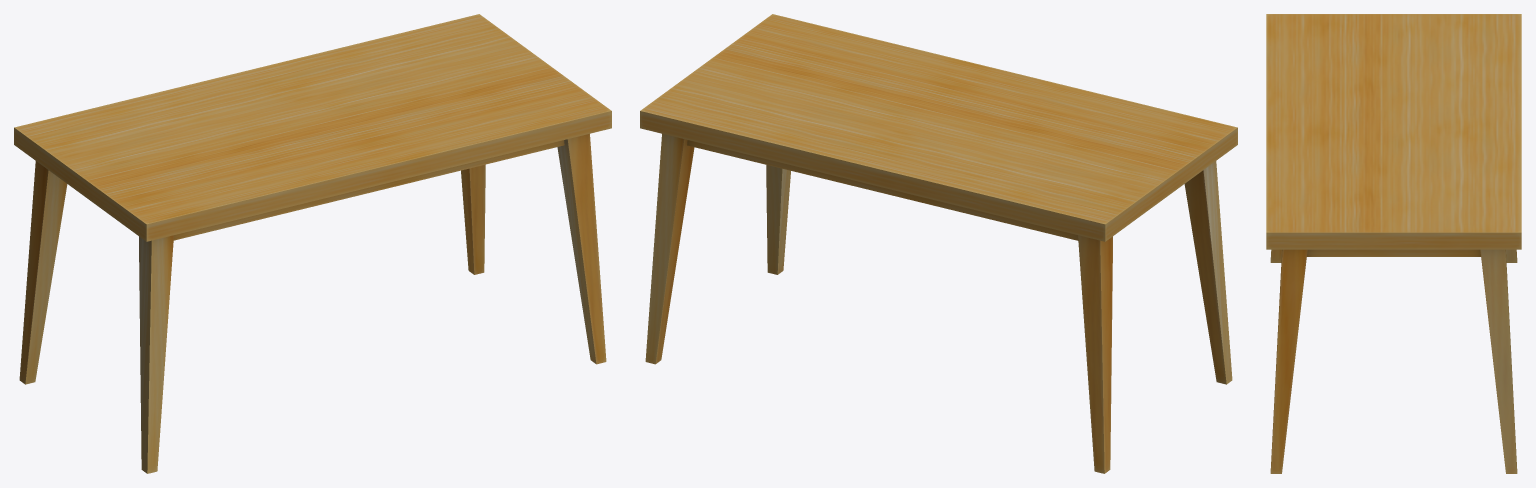
File: sb_obj_ModernCity069_diningtable.fbx
3 views of the same model, side by side, from view 1: azimuth 30°, elevation 25°; view 2: azimuth 150°, elevation 25°; view 3: azimuth 270°, elevation 25° (orthographic). The views are drawn at different scales.
Parts seen in each view (by area): view 1: sb_obj_ModernCity069_diningtable; view 2: sb_obj_ModernCity069_diningtable; view 3: sb_obj_ModernCity069_diningtable.
Boxes of the visible parts, x1=… form: sb_obj_ModernCity069_diningtable: x1=14, y1=14, x2=611, y2=473; sb_obj_ModernCity069_diningtable: x1=640, y1=14, x2=1237, y2=473; sb_obj_ModernCity069_diningtable: x1=1266, y1=14, x2=1521, y2=473.
Size of the model in its own units: 1.23 by 0.6354 by 0.6053.
Materials: 1 (1 with a texture image).
